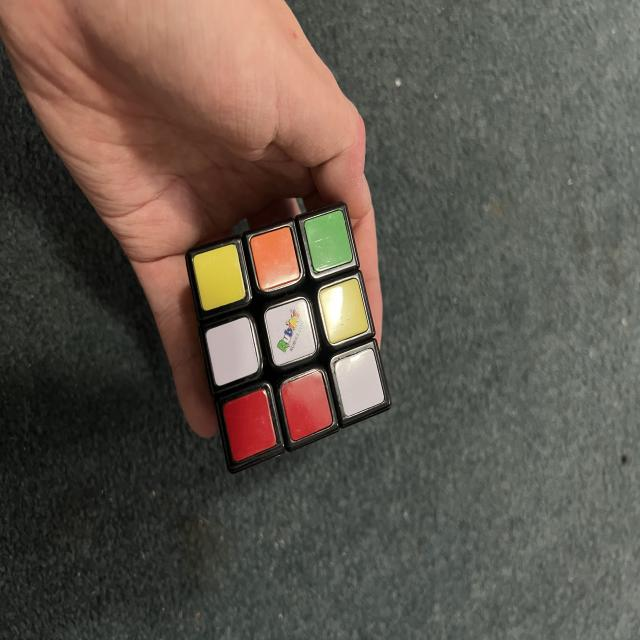center: (262, 298, 318, 366)
green: (301, 208, 355, 273)
orange: (246, 224, 304, 293)
red: (218, 389, 280, 463), (277, 369, 335, 442)
white: (261, 295, 321, 368), (202, 316, 263, 387), (328, 347, 388, 419)
yellow: (313, 277, 373, 347), (189, 244, 248, 312)
